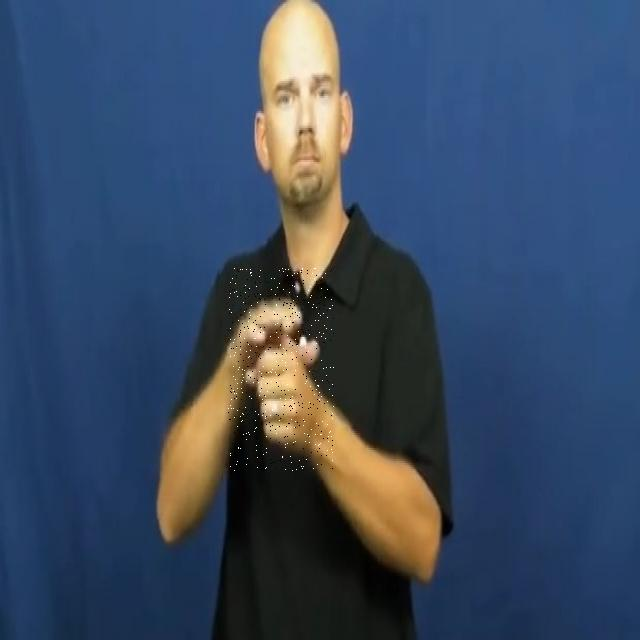soda: (228, 268, 334, 471)
